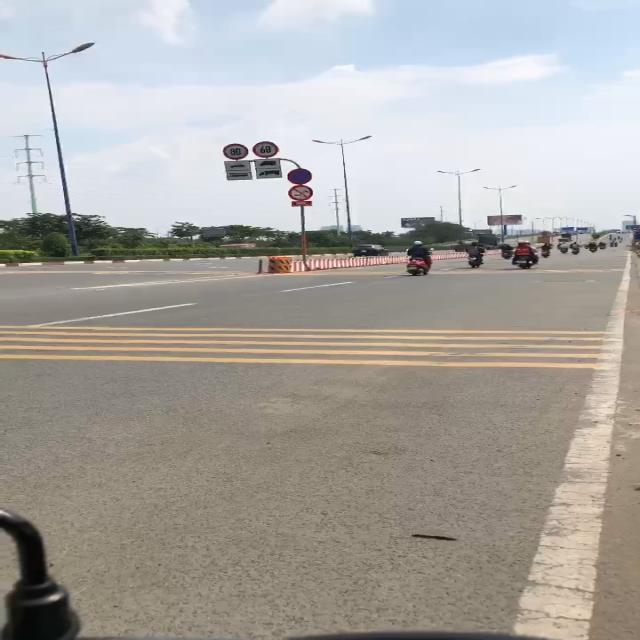Bien bao toc do toi da cho phep: (220, 141, 248, 161), (250, 140, 281, 158)
